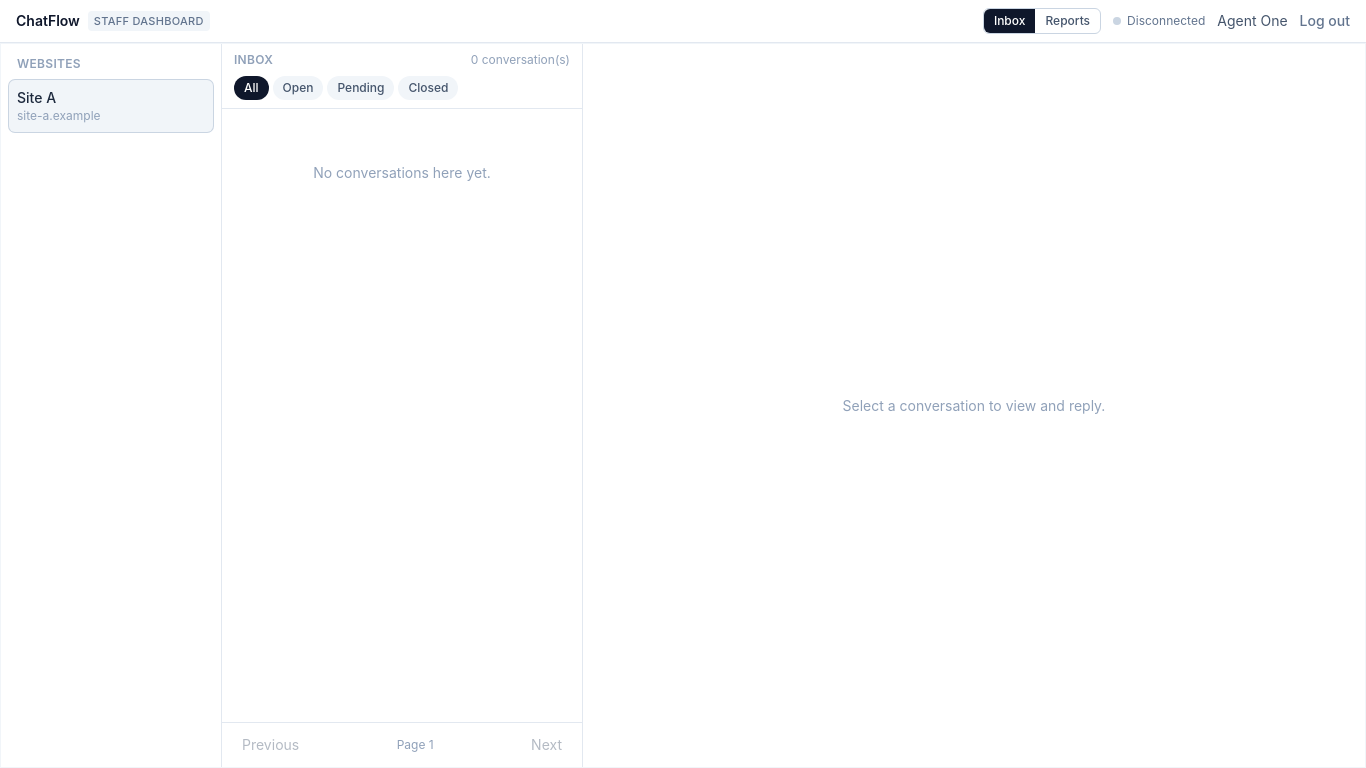
Test: DashboardShell › switches to the Reports view for the selected website
Click the button "Reports" at (1068, 21), box [1036, 9, 1100, 33]
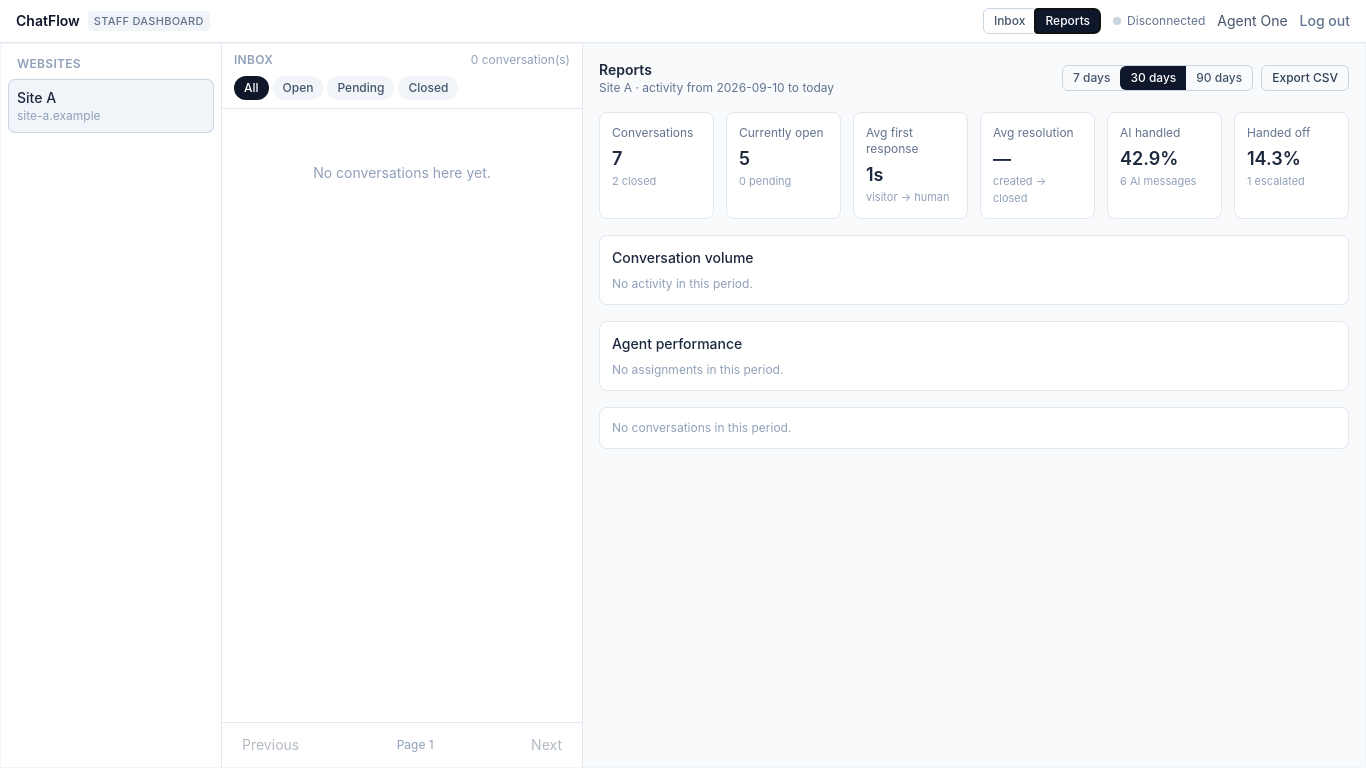
Check: the element "Reports" is shown, box [583, 44, 1365, 767]
Check: the text "7" is shown, box [612, 148, 622, 169]
